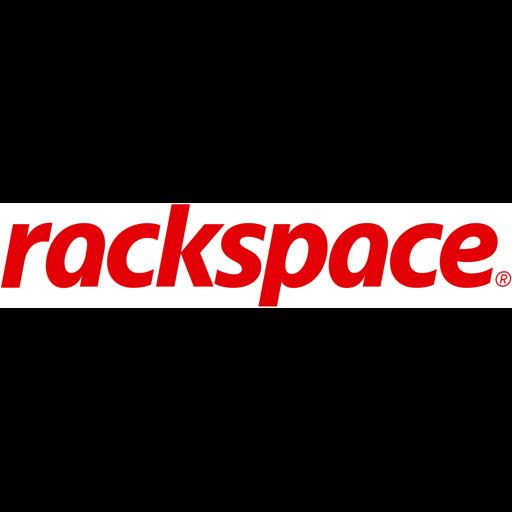Rackspace: (0, 203, 512, 308)
